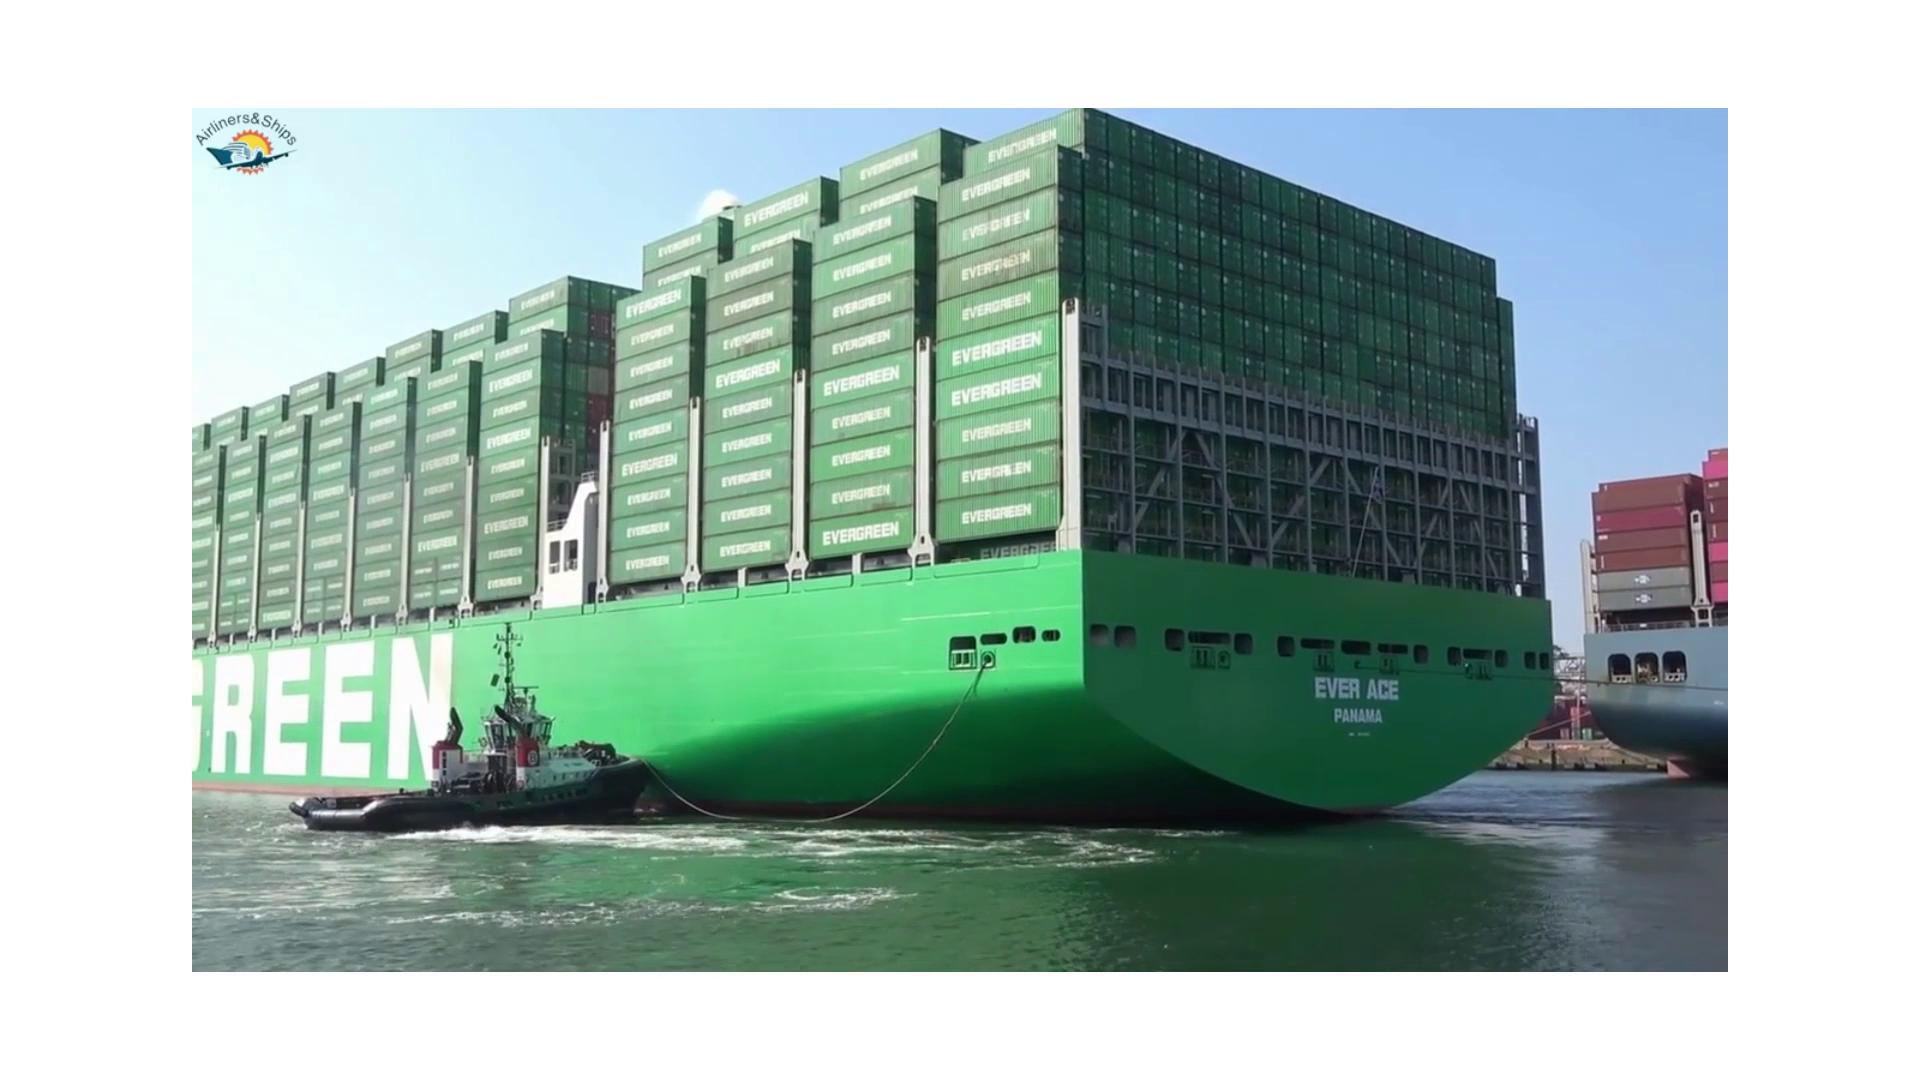OCR: (189, 615, 495, 822), (1295, 650, 1432, 753)
